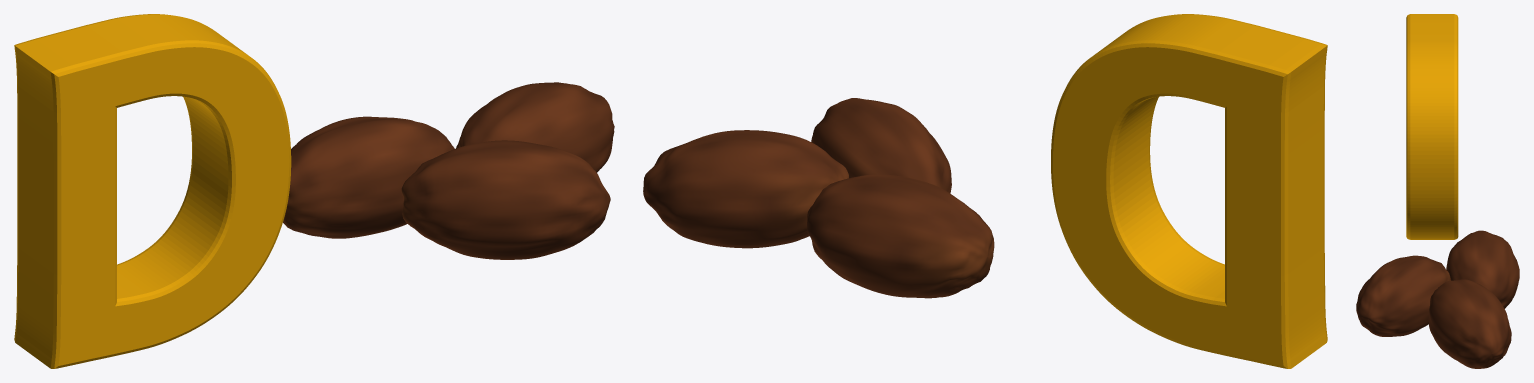
Rendered from dates-ar.glb.
3 views of the same model, side by side, from view 1: azimuth 30°, elevation 25°; view 2: azimuth 150°, elevation 25°; view 3: azimuth 270°, elevation 25° (orthographic). The views are drawn at different scales.
Parts seen in each view (by area): view 1: Letter D, Dates; view 2: Letter D, Dates; view 3: Dates, Letter D.
Boxes of the visible parts, x1=… form: Letter D: x1=14, y1=14, x2=291, y2=368; Dates: x1=283, y1=82, x2=614, y2=259; Letter D: x1=1051, y1=14, x2=1327, y2=368; Dates: x1=643, y1=98, x2=994, y2=298; Dates: x1=1356, y1=230, x2=1519, y2=368; Letter D: x1=1406, y1=14, x2=1458, y2=239.
Size of the model in its own units: 0.3433 by 0.16 by 0.1264.
